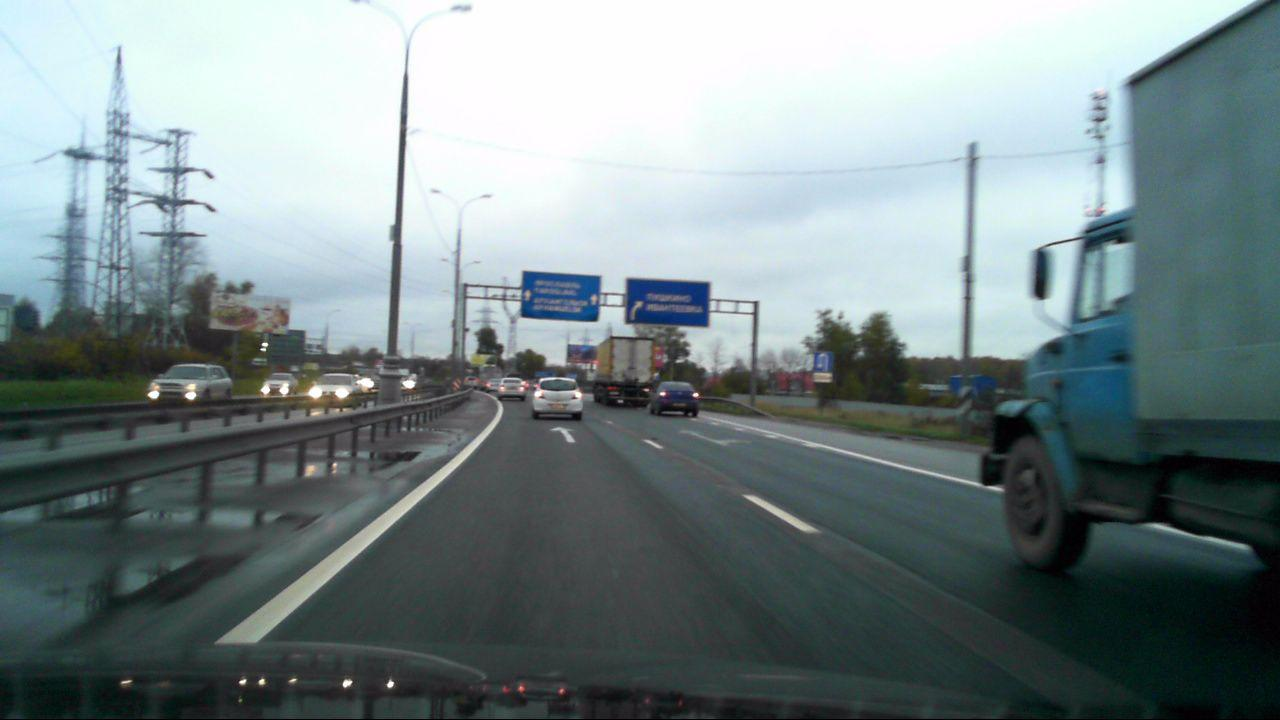6_10_1: (626, 274, 712, 327), (523, 270, 602, 322)
6_3_1: (812, 352, 833, 372)
8_1_1: (813, 373, 833, 383)
